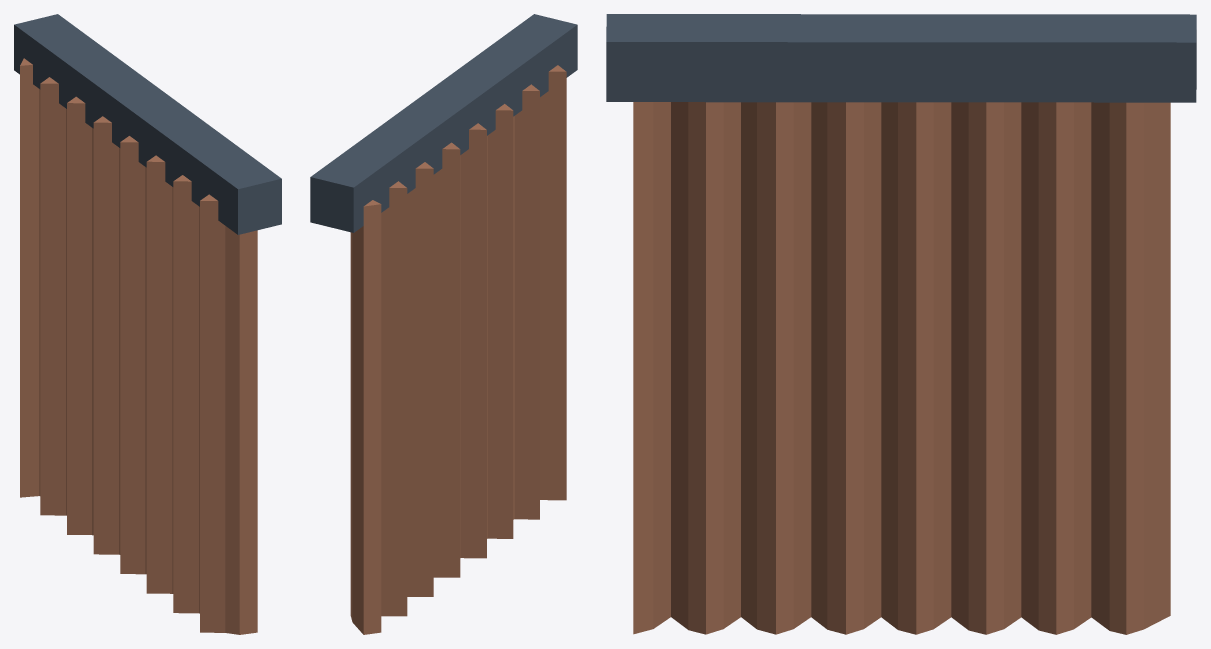
Rendered from curtain_singlebedroom.fbx.
3 renders of one model, left to right at view 1: azimuth 30°, elevation 25°; view 2: azimuth 150°, elevation 25°; view 3: azimuth 270°, elevation 25°, orthographic. The views are drawn at different scales.
Visible parts, largest first — view 1: curtain_singlebedroom, Cube.001; view 2: curtain_singlebedroom, Cube.001; view 3: curtain_singlebedroom, Cube.001.
Part boxes in pixels (<box>): curtain_singlebedroom: <box>20,58,257,634</box>; Cube.001: <box>14,14,281,234</box>; curtain_singlebedroom: <box>350,65,566,634</box>; Cube.001: <box>310,14,577,232</box>; curtain_singlebedroom: <box>633,102,1170,634</box>; Cube.001: <box>606,14,1196,102</box>.
Bounding box in the file's own units: 20.47 × 154 × 137.
